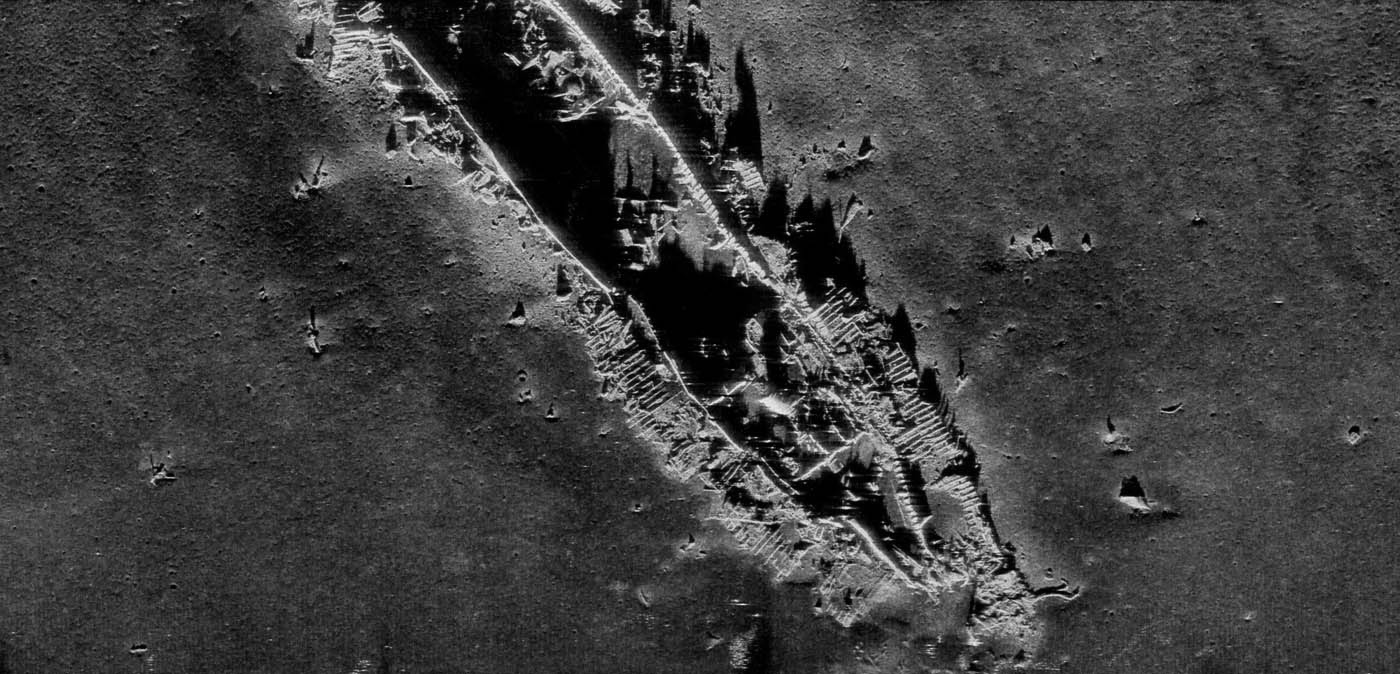ship: (374, 5, 958, 593)
